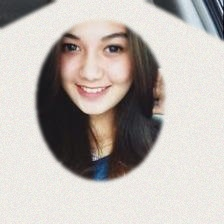Mukena: (0, 28, 212, 224)
